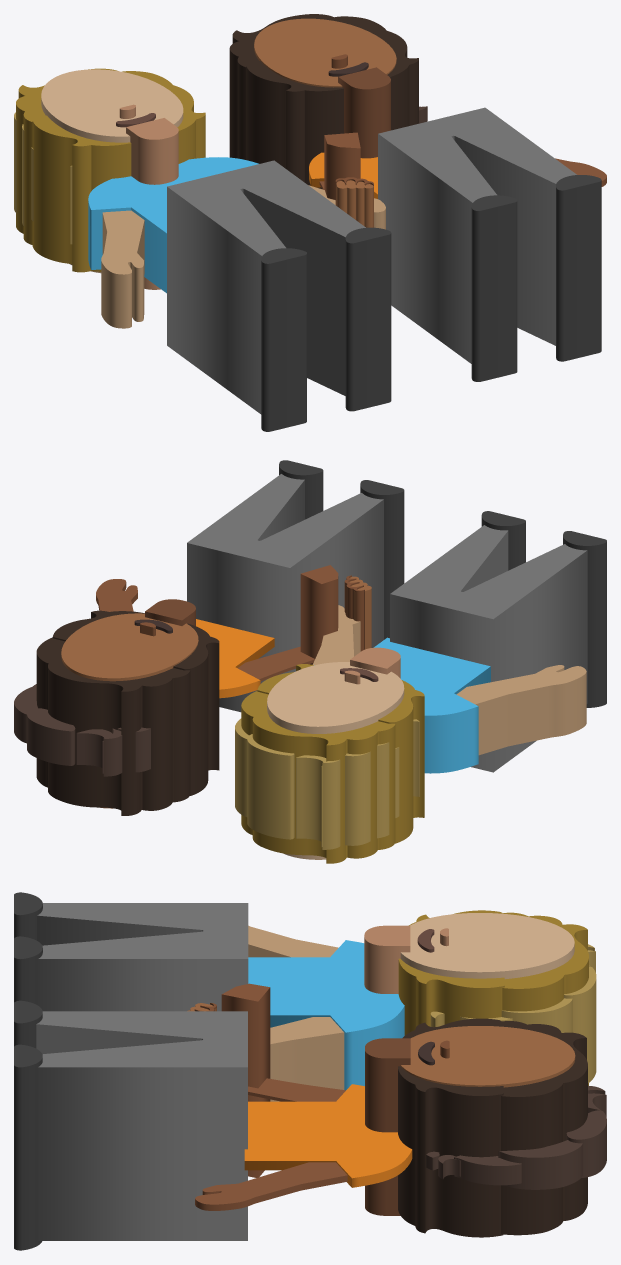
Rendered from emoji_u1f9d1_1f3fc_200d_1f91d_200d_1f9d1_1f3fe.glb.
3 renders of one model, top to bottom at view 1: azimuth 30°, elevation 25°; view 2: azimuth 150°, elevation 25°; view 3: azimuth 270°, elevation 25°, orthographic. The views are drawn at different scales.
Parts seen in each view (by area): view 1: emoji_u1f9d1_1f3fc_200d_1f91d_200d_1f9d1_1f3fe; view 2: emoji_u1f9d1_1f3fc_200d_1f91d_200d_1f9d1_1f3fe; view 3: emoji_u1f9d1_1f3fc_200d_1f91d_200d_1f9d1_1f3fe.
Part boxes in pixels (x1=…): emoji_u1f9d1_1f3fc_200d_1f91d_200d_1f9d1_1f3fe: x1=14, y1=14, x2=606, y2=431; emoji_u1f9d1_1f3fc_200d_1f91d_200d_1f9d1_1f3fe: x1=14, y1=460, x2=606, y2=863; emoji_u1f9d1_1f3fc_200d_1f91d_200d_1f9d1_1f3fe: x1=14, y1=892, x2=606, y2=1250.
Size of the model in its own units: 0.0346 by 0.0114 by 0.0335.
